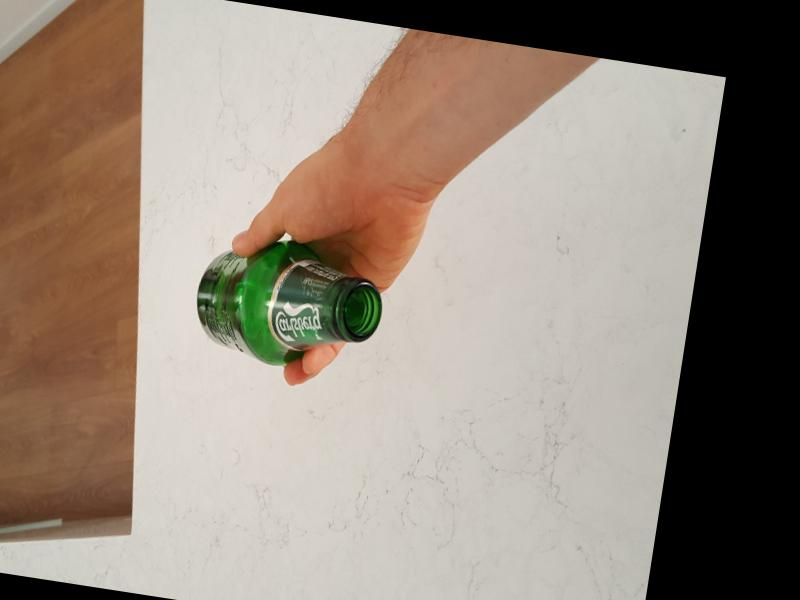Beer: (187, 229, 390, 378)
